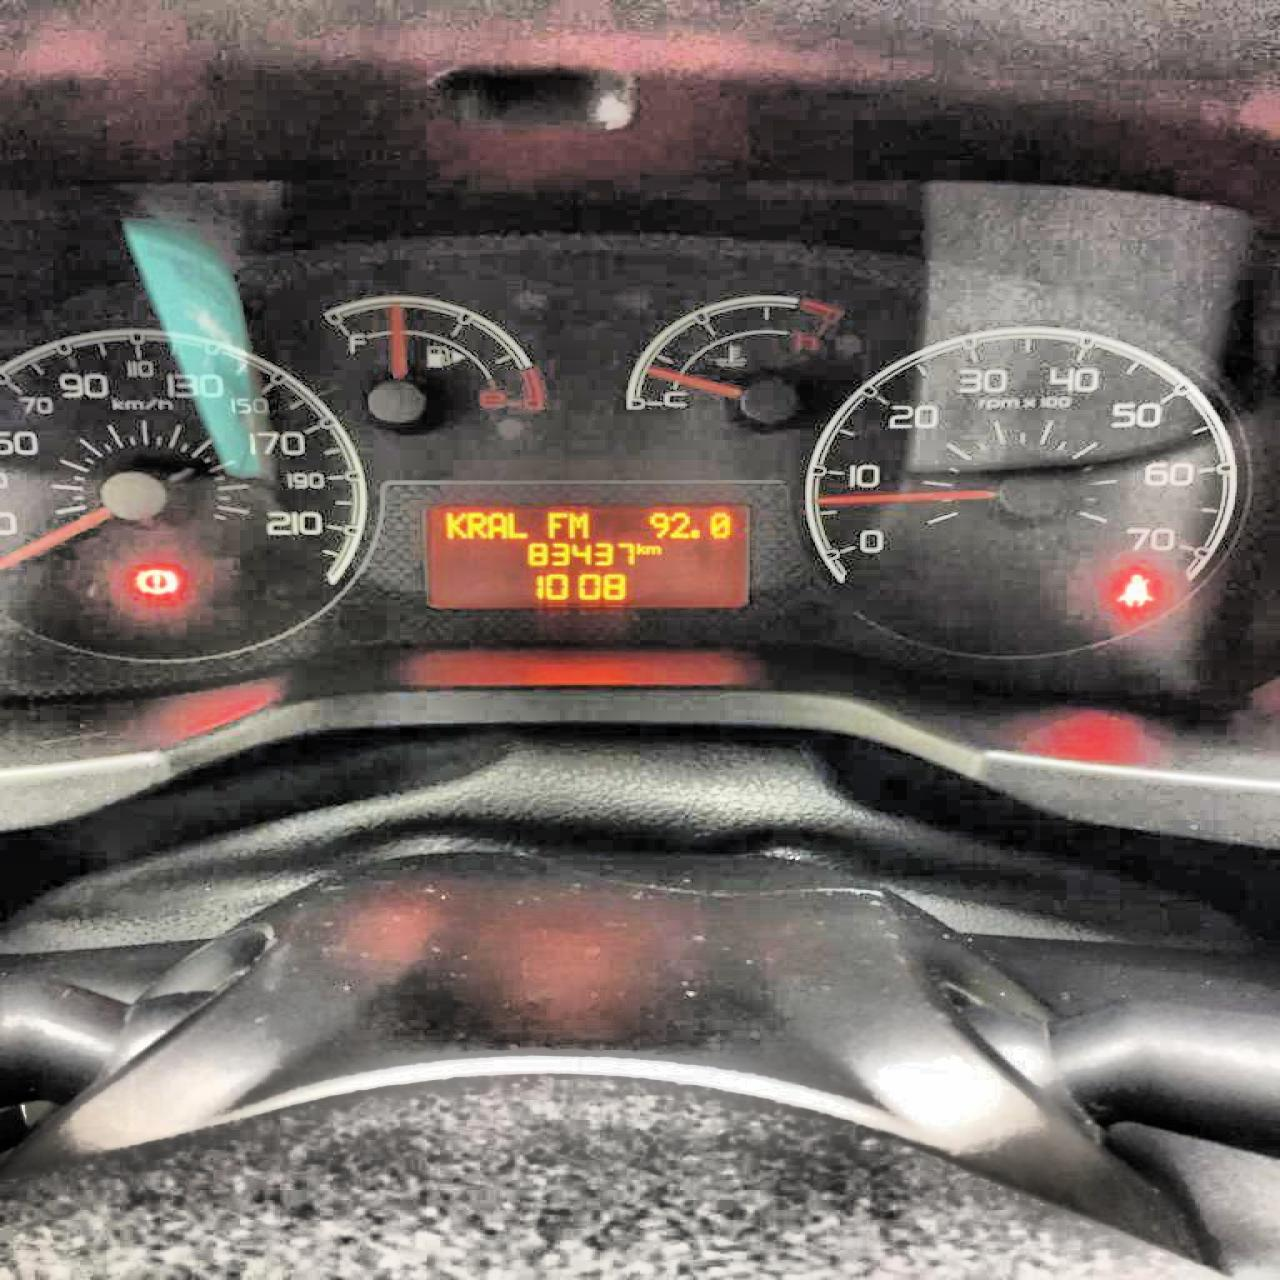-: (688, 527, 703, 540)
0: (704, 510, 734, 538), (543, 571, 567, 600), (576, 573, 600, 601)
1: (533, 574, 542, 600)
2: (668, 509, 688, 539)
3: (549, 540, 570, 566), (593, 542, 612, 566)
4: (570, 542, 590, 566)
7: (615, 540, 635, 565)
8: (601, 571, 625, 599), (526, 540, 549, 566)
9: (648, 509, 669, 539)
X: (443, 509, 464, 542), (506, 511, 530, 539), (545, 509, 565, 539), (465, 510, 485, 539), (567, 511, 588, 538), (486, 511, 505, 539), (645, 544, 662, 554), (633, 542, 645, 553)
odometer: (420, 503, 754, 606)
